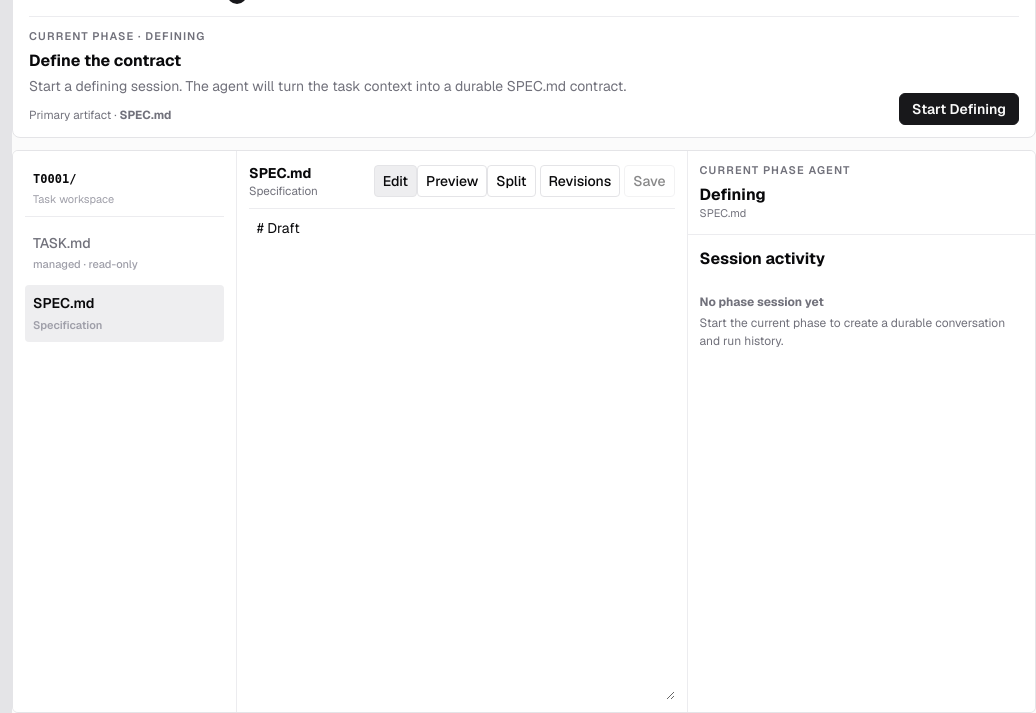
Test: edits made while reload is pending are never replaced
(page scrolled)
Replace the text in the text box named "Markdown document" with "first draft". click: (462, 455)
box: 249,209 -> 674,700
(page scrolled)
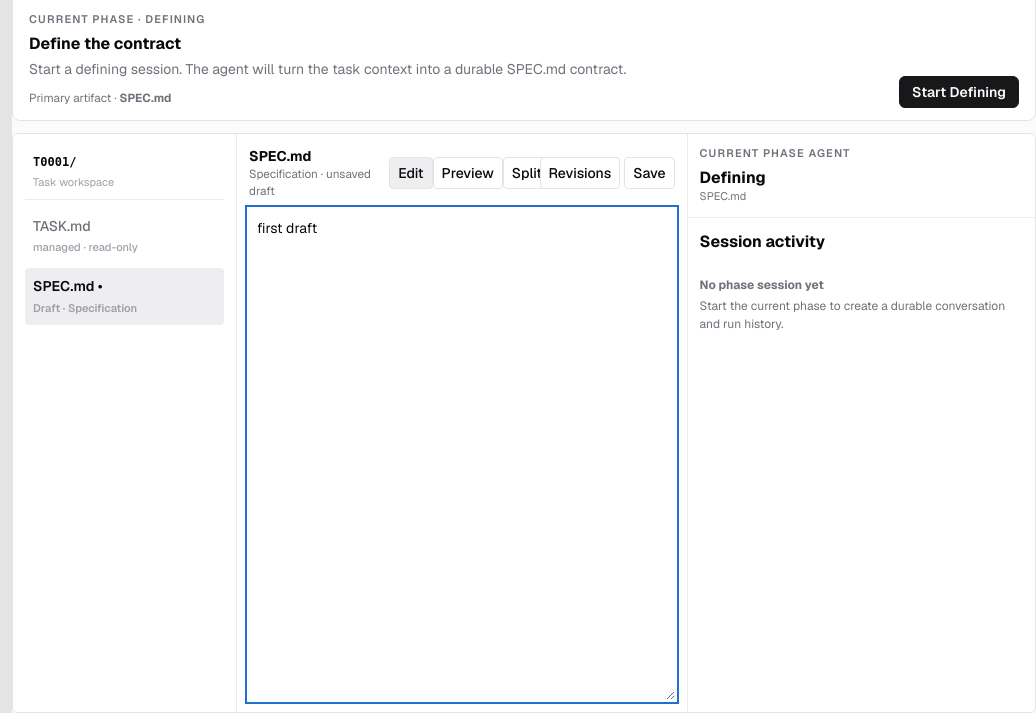
Click the button "Save". click: (649, 173)
box: 624,157 -> 674,189
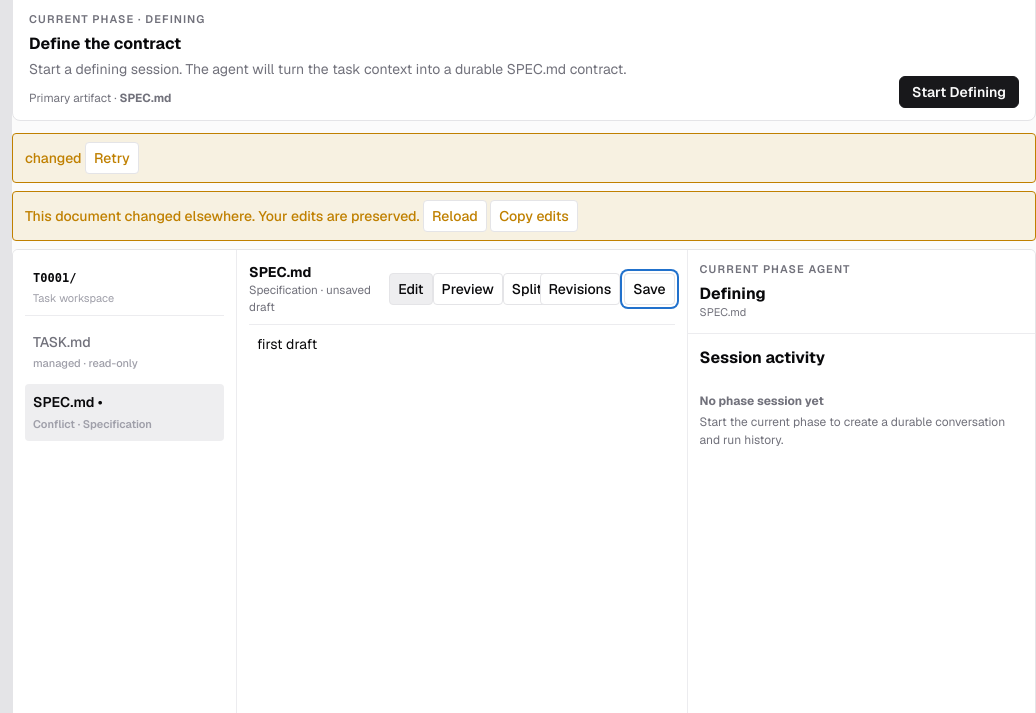
Click the button "Reload". click: (455, 216)
box: 423,200 -> 487,232
(page scrolled)
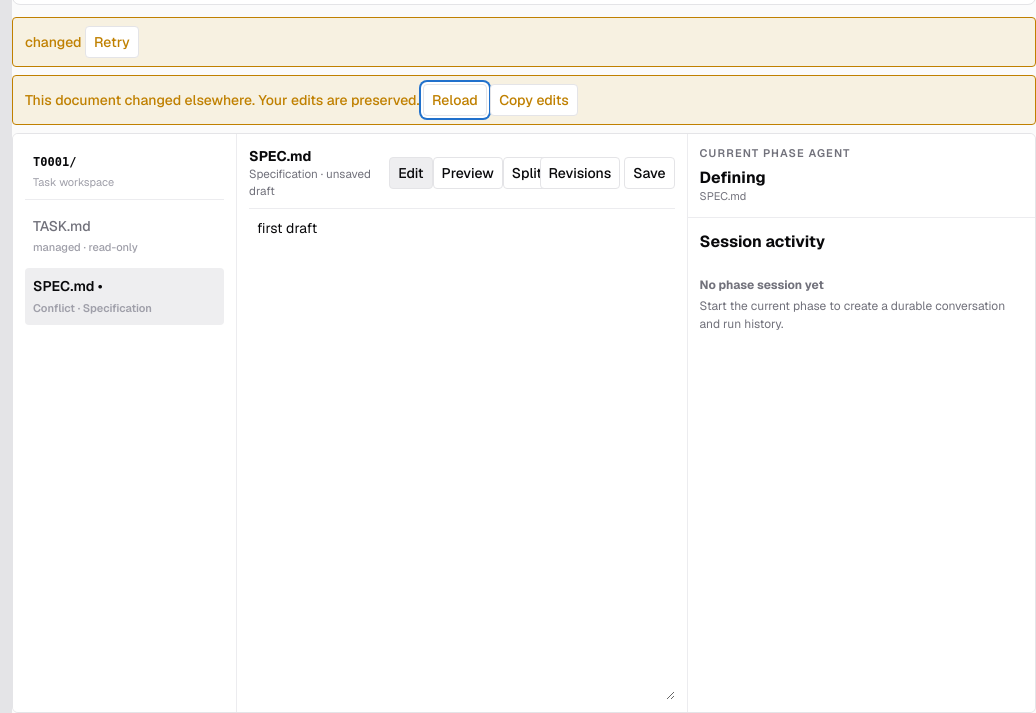
Type " plus later edits" into the text box named "Markdown document". click: (462, 455)
box: 249,209 -> 674,700
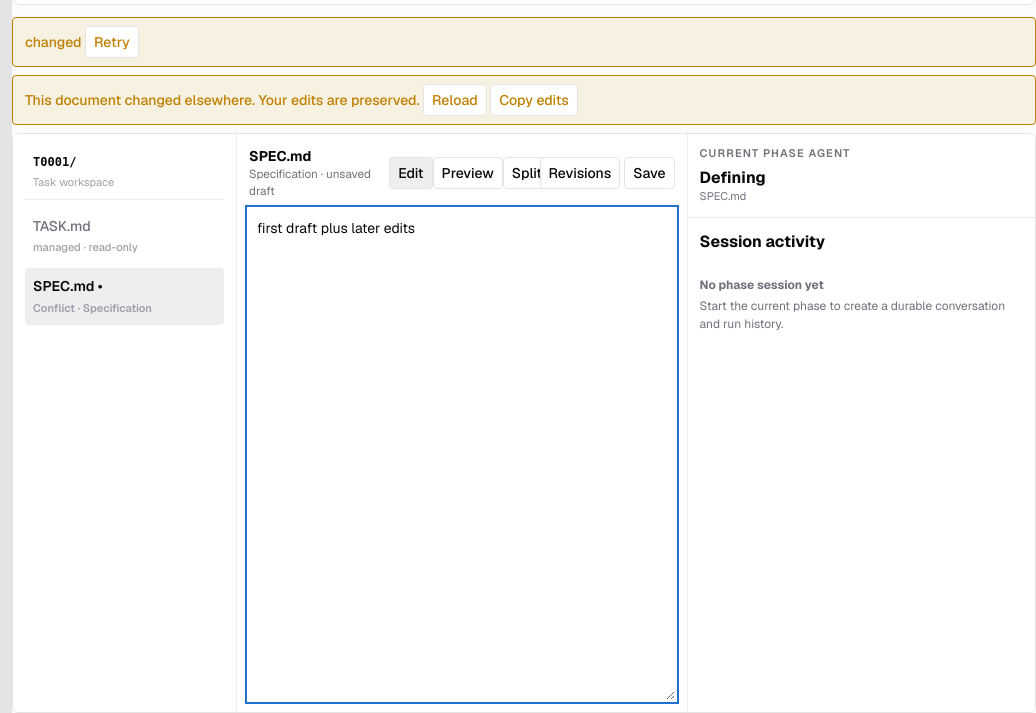
Result: the text box named "Markdown document" holds "first draft plus later edits" at 249,209 -> 674,700
